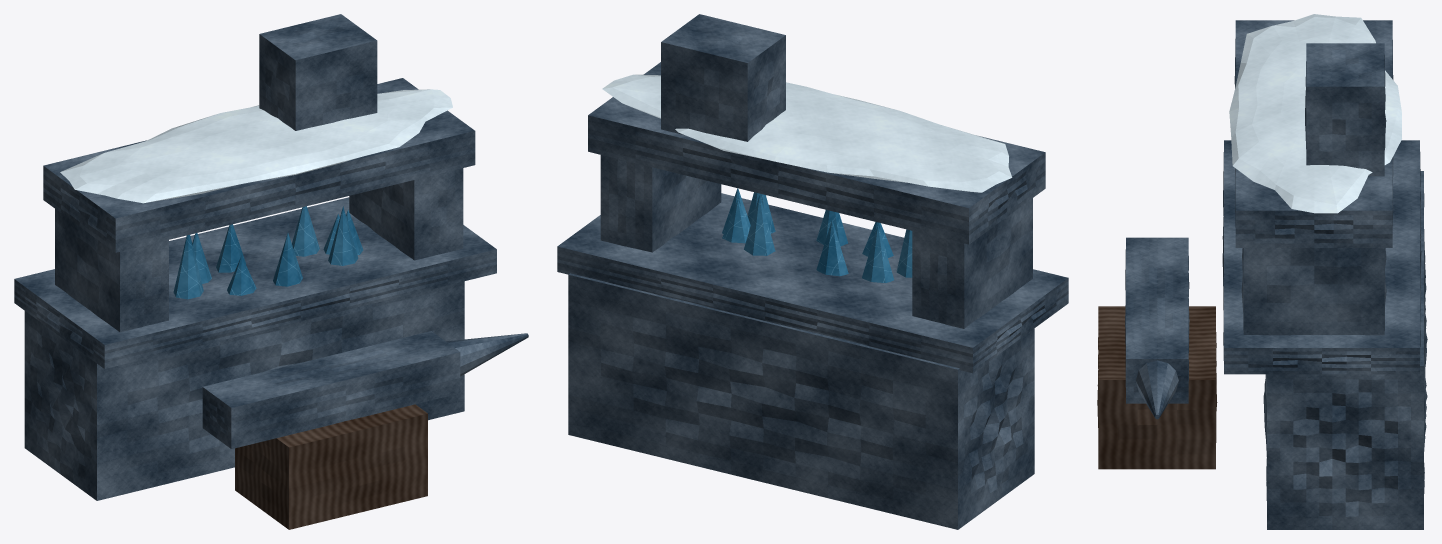
The model's file is WinterSynthesisForge.fbx.
The picture shows the model from 3 angles, left to right: view 1: azimuth 30°, elevation 25°; view 2: azimuth 150°, elevation 25°; view 3: azimuth 270°, elevation 25°; orthographic projection. The views are drawn at different scales.
Parts seen in each view (by area): view 1: WO_WinterSynthesisForge_LOD0; view 2: WO_WinterSynthesisForge_LOD0; view 3: WO_WinterSynthesisForge_LOD0.
Part boxes in pixels (x1,y1,x2,y2): WO_WinterSynthesisForge_LOD0: [14, 14, 528, 529]; WO_WinterSynthesisForge_LOD0: [557, 14, 1068, 529]; WO_WinterSynthesisForge_LOD0: [1097, 14, 1427, 529].
Size of what is drawn, in the model's own units: 6 by 5.5 by 4.
